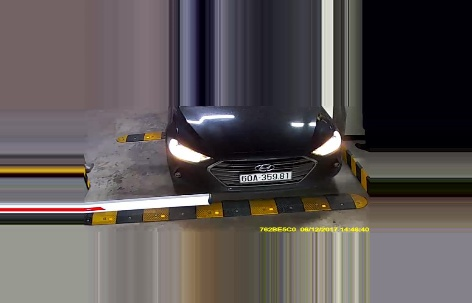plate: (237, 168, 296, 183)
